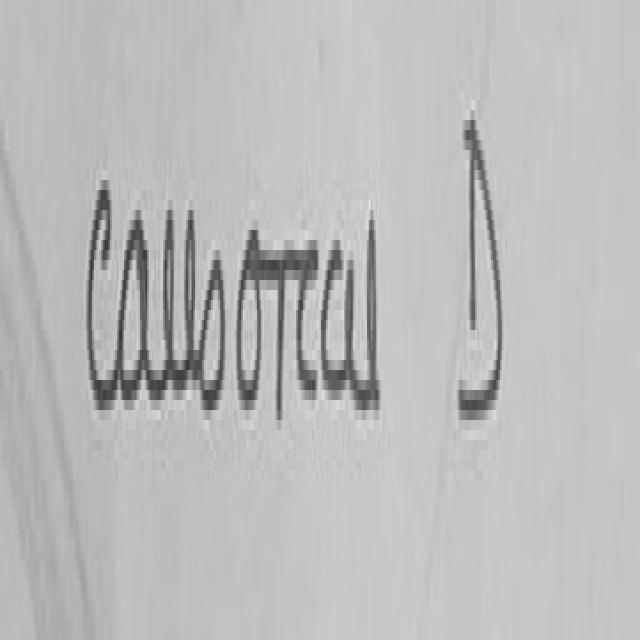C: (87, 180, 119, 405)
D: (461, 120, 503, 415)
a: (119, 210, 165, 400), (323, 240, 369, 405)
b: (186, 201, 225, 423)
l: (153, 210, 188, 394), (363, 210, 379, 405)
o: (238, 230, 262, 405)
r: (276, 252, 319, 415)
